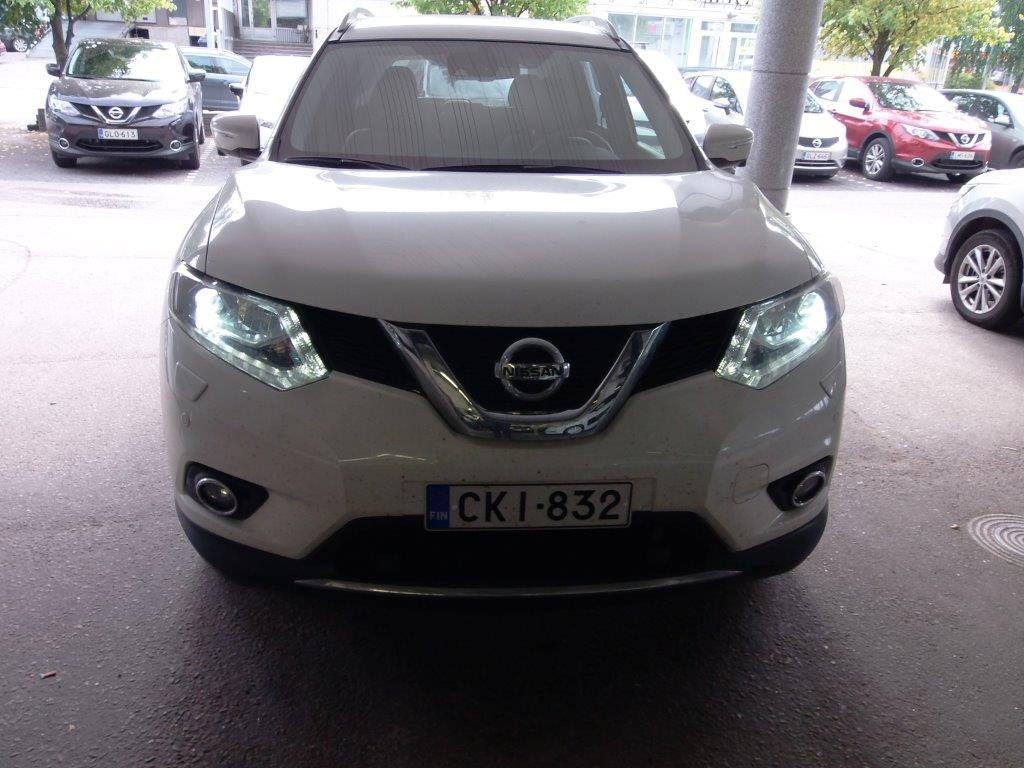license: (422, 483, 629, 532)
